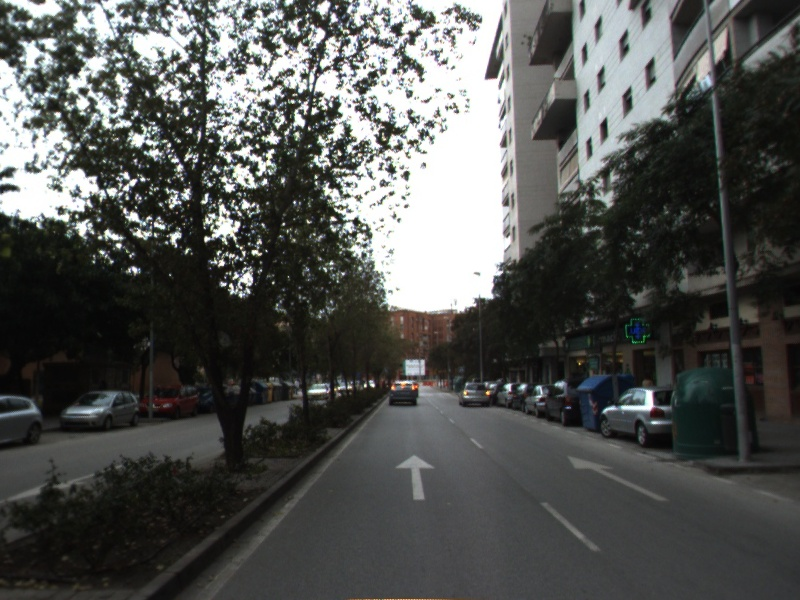STRAIGHT: (566, 454, 675, 503), (393, 453, 438, 502)
